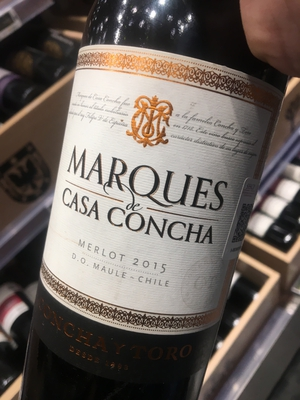marques de casa concha merlot: (27, 19, 281, 375)
